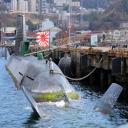submarine: (1, 14, 124, 121)
